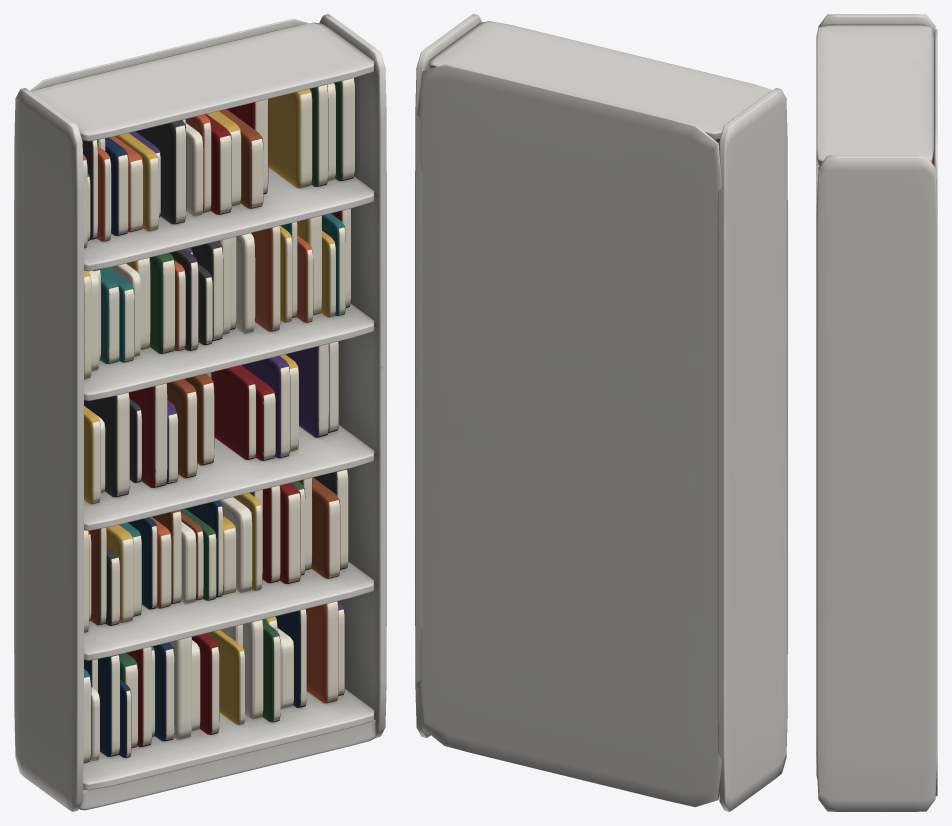
File: white-tall.glb
The picture shows the model from 3 angles, left to right: view 1: azimuth 30°, elevation 25°; view 2: azimuth 150°, elevation 25°; view 3: azimuth 270°, elevation 25°; orthographic projection. The views are drawn at different scales.
Parts seen in each view (by area): view 1: paint_primary_white, book_pages, book_c8a24a, book_7a1f24, book_3b3b3b, book_b85a3c, book_1f3550, book_e7e0d0, book_8a4a2c, book_2f5a3a, book_4a3a6a, book_2c6a6a; view 2: paint_primary_white; view 3: paint_primary_white.
Part boxes in pixels (x1,y1,x2,y2): paint_primary_white: (14, 14, 386, 811); book_pages: (83, 78, 354, 761); book_c8a24a: (84, 89, 335, 724); book_7a1f24: (88, 99, 350, 747); book_3b3b3b: (82, 120, 348, 625); book_b85a3c: (83, 114, 338, 703); book_1f3550: (84, 137, 306, 757); book_e7e0d0: (84, 83, 335, 761); book_8a4a2c: (89, 109, 340, 625); book_2f5a3a: (87, 78, 355, 747); book_4a3a6a: (93, 131, 344, 695); book_2c6a6a: (83, 119, 345, 762); paint_primary_white: (415, 14, 787, 811); paint_primary_white: (816, 14, 937, 811).
Size of the model in its own units: 0.9 by 1.9 by 0.32.
Materials: 12 (1 with a texture image).
